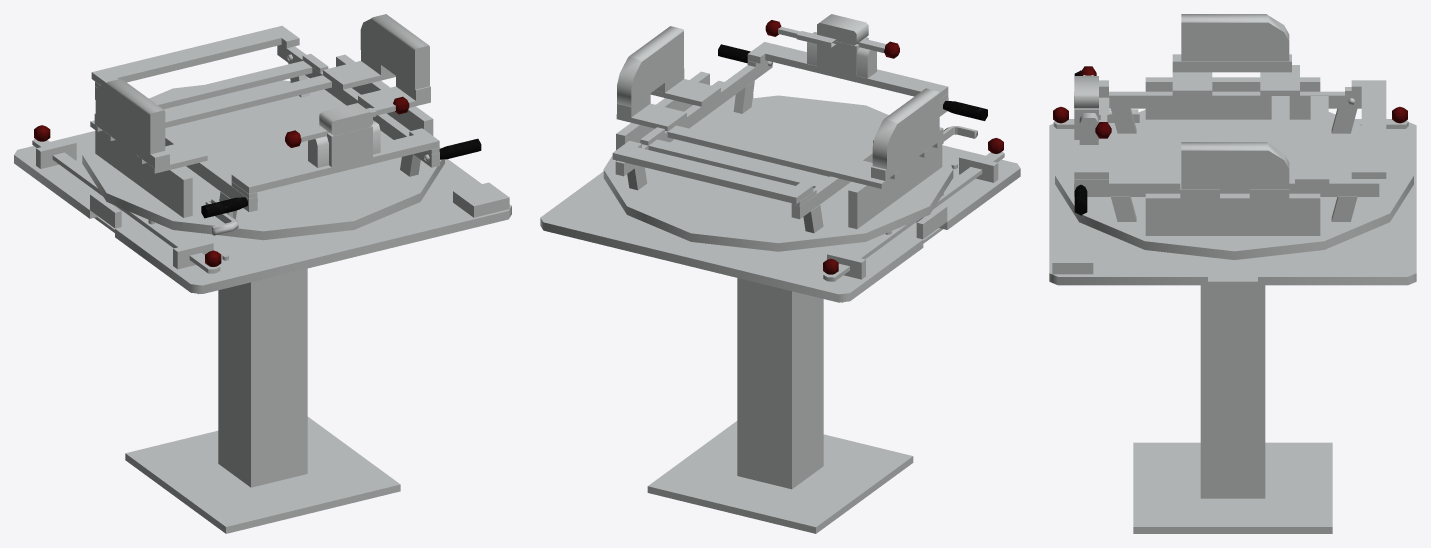
The model's file is YF_LT_ZuoYiTai.FBX.
The picture shows the model from 3 angles, left to right: view 1: azimuth 30°, elevation 25°; view 2: azimuth 150°, elevation 25°; view 3: azimuth 270°, elevation 25°; orthographic projection. The views are drawn at different scales.
Parts seen in each view (by area): view 1: YF_Model_LT_ZuoYiTai; view 2: YF_Model_LT_ZuoYiTai; view 3: YF_Model_LT_ZuoYiTai.
Part boxes in pixels (<box>): YF_Model_LT_ZuoYiTai: <box>14,14,511,533</box>; YF_Model_LT_ZuoYiTai: <box>540,14,1020,533</box>; YF_Model_LT_ZuoYiTai: <box>1049,14,1416,533</box>.
Size of the model in its own units: 67.12 by 83.03 by 67.12.
Materials: 1 (1 with a texture image).
